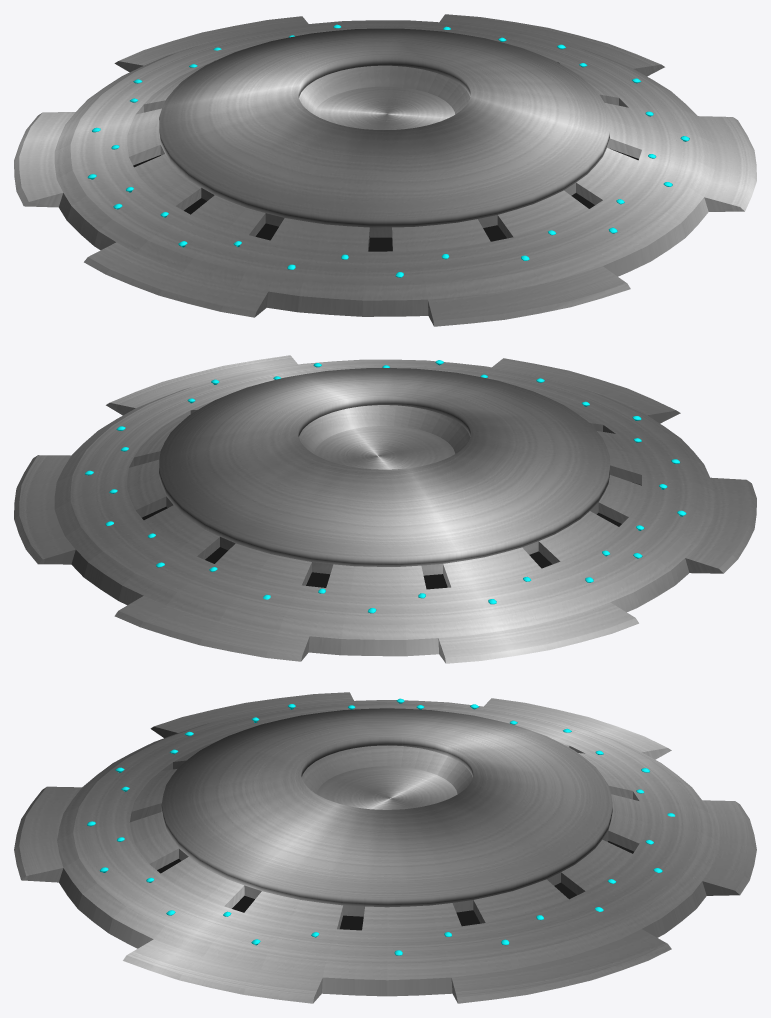
The model's file is UFO.obj.
3 views of the same model, one above another, from view 1: azimuth 30°, elevation 25°; view 2: azimuth 150°, elevation 25°; view 3: azimuth 270°, elevation 25° (orthographic).
Visible parts, largest first — view 1: Circle_Circle_Material.008, Circle_Circle_Material.006, Circle_Circle_Material.005, Circle_Circle_Material.003; view 2: Circle_Circle_Material.008, Circle_Circle_Material.006, Circle_Circle_Material.005, Circle_Circle_Material.003; view 3: Circle_Circle_Material.008, Circle_Circle_Material.006, Circle_Circle_Material.005, Circle_Circle_Material.003.
Boxes of the visible parts, x1,y1,x2,y2 form: Circle_Circle_Material.008: [14, 14, 756, 326]; Circle_Circle_Material.006: [314, 86, 454, 129]; Circle_Circle_Material.005: [133, 148, 638, 251]; Circle_Circle_Material.003: [87, 24, 689, 277]; Circle_Circle_Material.008: [14, 355, 756, 663]; Circle_Circle_Material.006: [314, 426, 455, 469]; Circle_Circle_Material.005: [142, 482, 641, 589]; Circle_Circle_Material.003: [85, 360, 686, 613]; Circle_Circle_Material.008: [14, 692, 756, 1003]; Circle_Circle_Material.006: [317, 766, 457, 809]; Circle_Circle_Material.005: [157, 841, 633, 930]; Circle_Circle_Material.003: [87, 698, 675, 955].
Bounding box in the file's own units: 3.62 × 0.5931 × 3.67.
